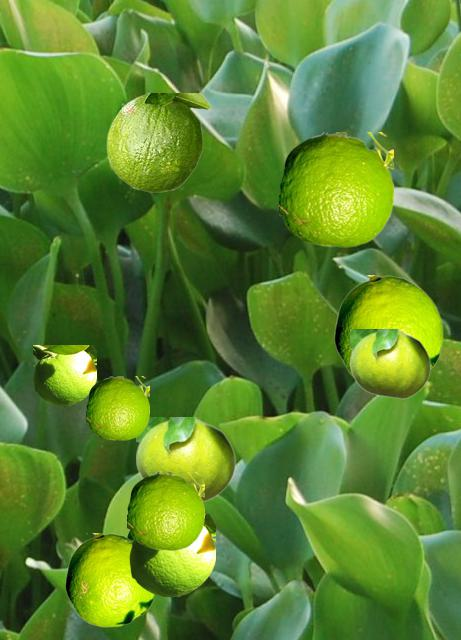dalandan: (279, 132, 392, 246), (334, 275, 442, 377), (106, 93, 210, 191), (136, 417, 235, 501), (65, 533, 154, 626), (129, 514, 214, 595), (127, 472, 203, 549), (350, 329, 430, 398), (86, 376, 148, 439), (33, 345, 95, 404)
